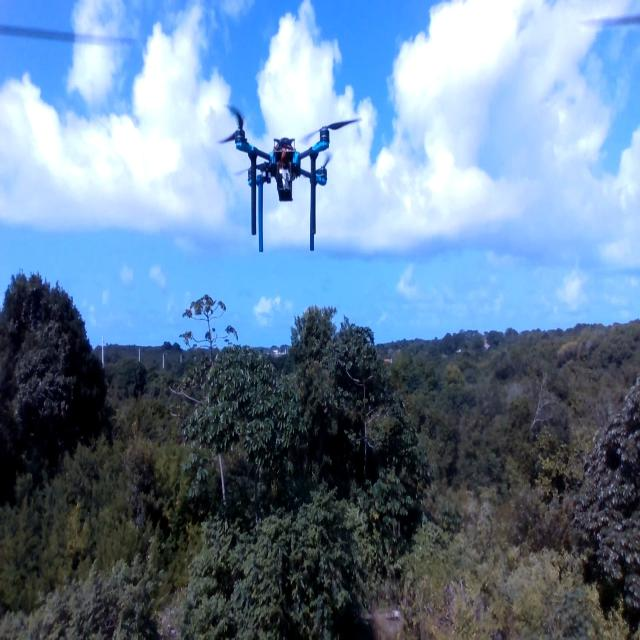-uav-: (210, 96, 361, 254)
